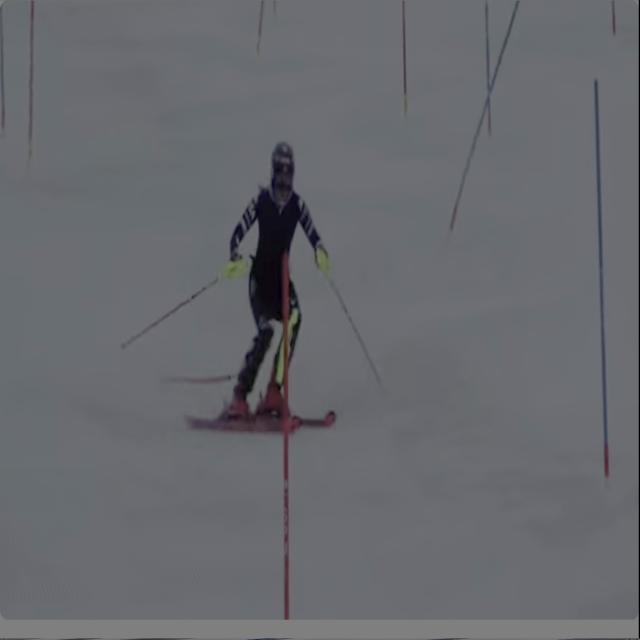gate: (580, 72, 622, 485), (268, 244, 304, 624), (19, 27, 56, 180), (468, 28, 503, 154), (397, 28, 418, 124)
